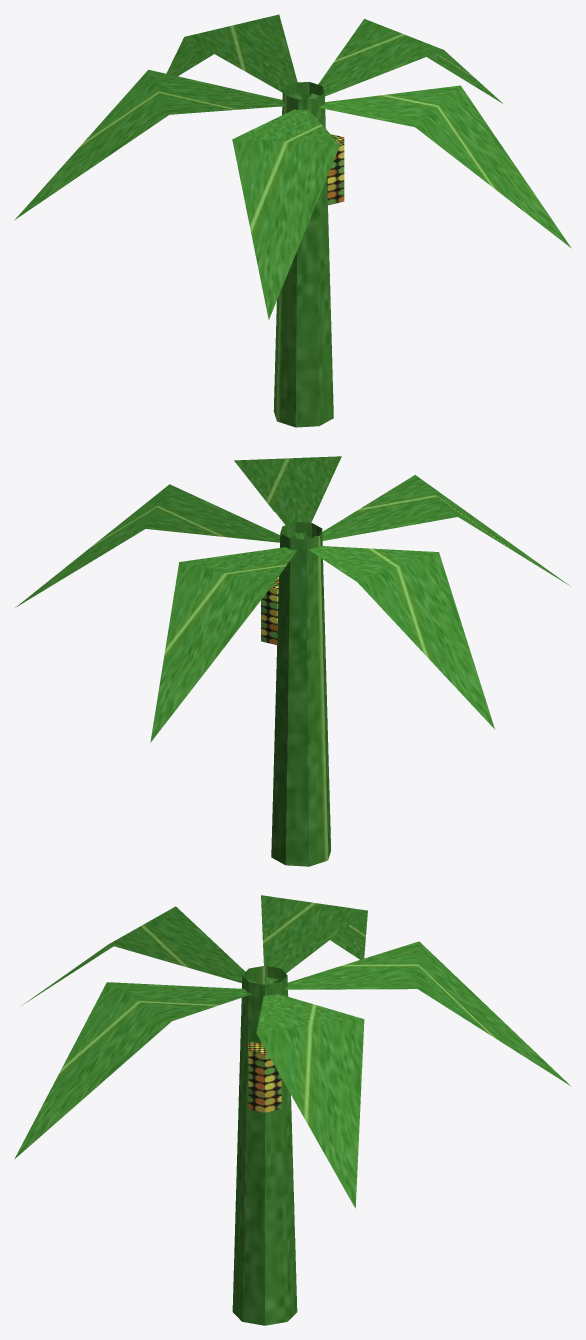
Rendered from plantain-cream-far.glb.
3 views of the same model, one above another, from view 1: azimuth 30°, elevation 25°; view 2: azimuth 150°, elevation 25°; view 3: azimuth 270°, elevation 25° (orthographic). The views are drawn at different scales.
Visible parts, largest first — view 1: plantain-cream-far; view 2: plantain-cream-far; view 3: plantain-cream-far.
Boxes of the visible parts, x1=… form: plantain-cream-far: x1=14, y1=14, x2=571, y2=427; plantain-cream-far: x1=15, y1=456, x2=570, y2=866; plantain-cream-far: x1=14, y1=895, x2=571, y2=1325.
Bounding box in the file's own units: 3.61 × 2.37 × 3.45.
1 material, 1 textured.
